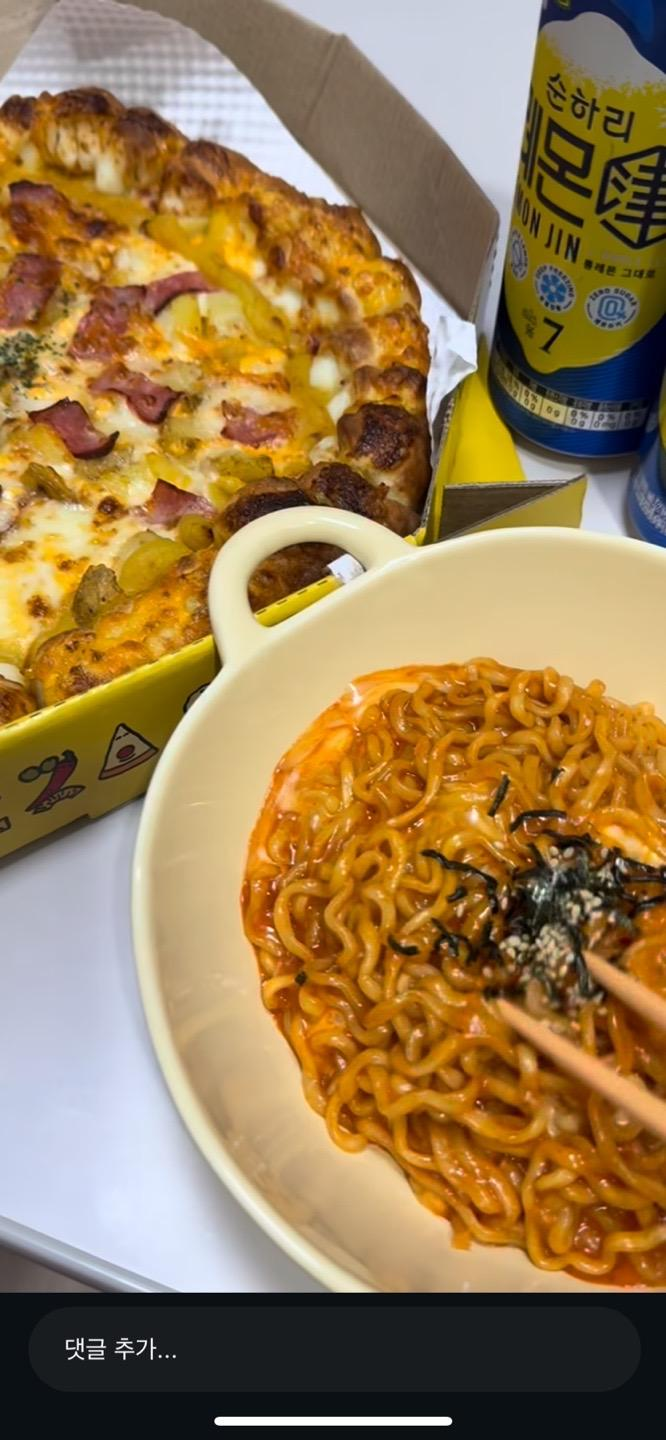Bottle: (490, 0, 665, 456), (631, 371, 665, 547)
Lunch Box: (0, 0, 586, 858), (133, 519, 665, 1297)
